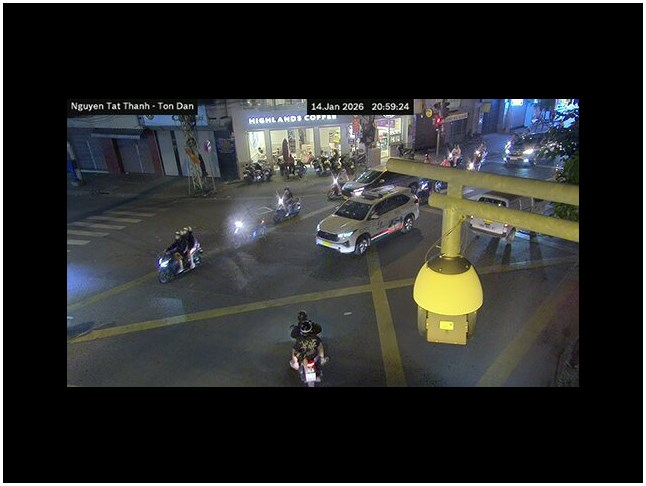car: (315, 185, 422, 256), (462, 186, 510, 208)
motorbike: (156, 238, 204, 284)
